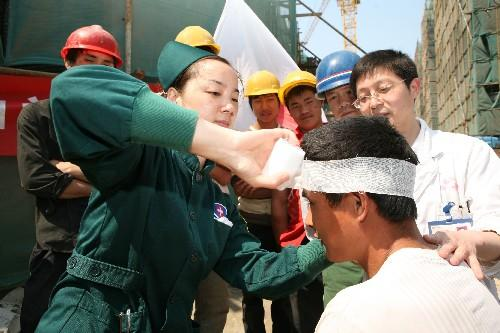helmet: (60, 27, 131, 58), (314, 50, 363, 94), (280, 70, 322, 99), (173, 27, 224, 50), (244, 71, 280, 99)
